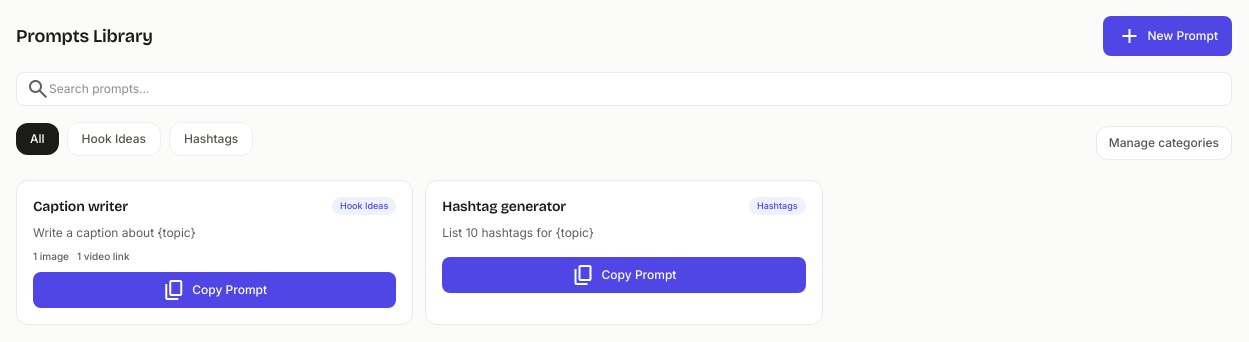
Test: PromptsLibrary › filters by category chip
This screenshot has width=1249, height=342.
Click the button "Hashtags" at coordinates (211, 139), box [169, 122, 253, 156]
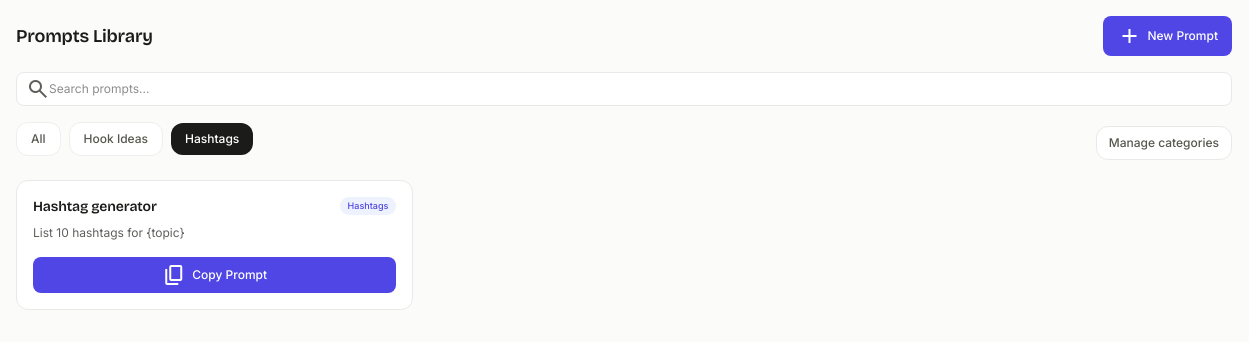
Expected: the heading "Hashtag generator" is shown, [33, 197, 157, 217]
Now the heading "Caption writer" is gone
